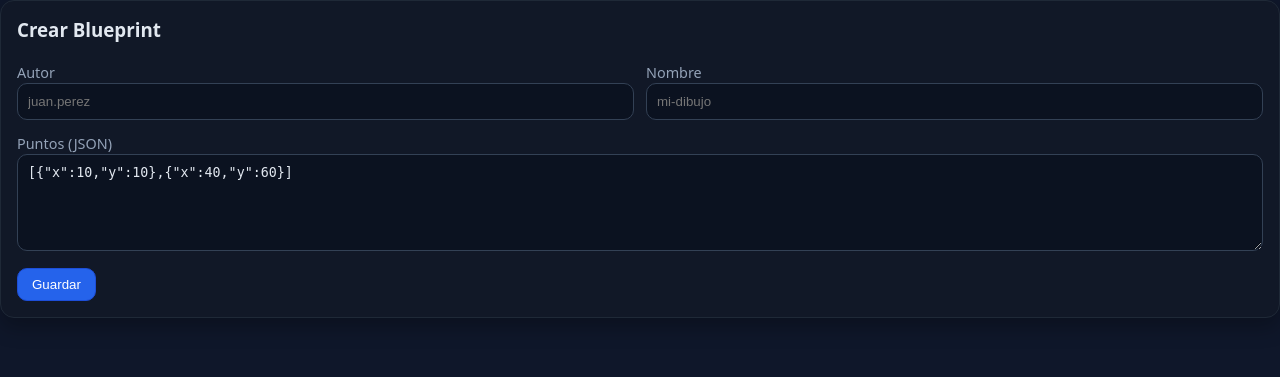
BlueprintForm › no envía el formulario si el JSON de puntos es inválido
Type "john" into the field labelled "Autor".
click(326, 101); type("john")  # box [17, 83, 634, 120]
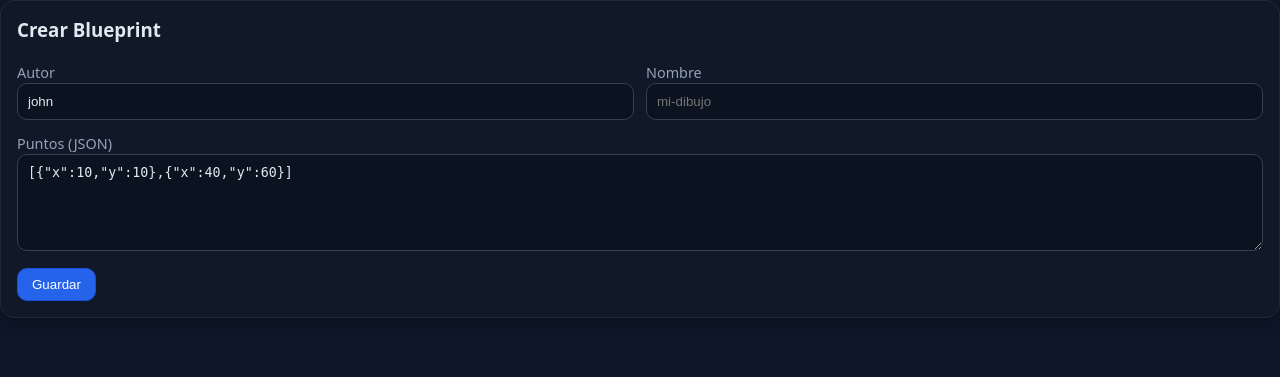
Type "house" into the field labelled "Nombre".
click(954, 101); type("house")  # box [646, 83, 1263, 120]
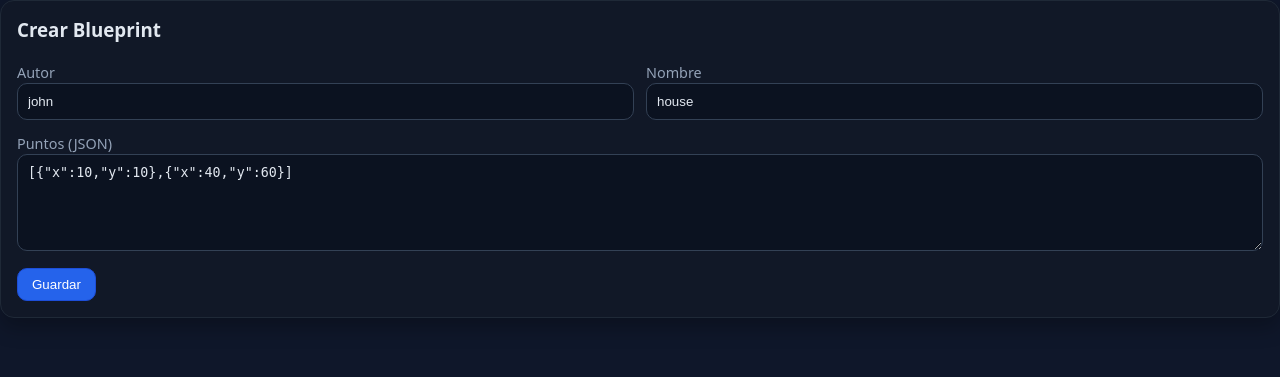
Replace the text in the text box labelled "Puntos (JSON)" with "no es json" at (640, 202), box [17, 154, 1263, 251]
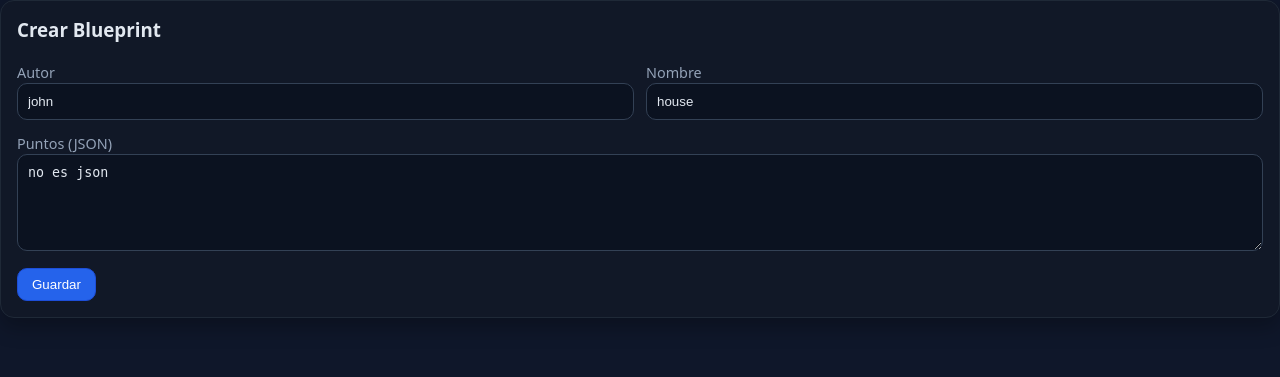
Submit the form from the button "Guardar", box [17, 268, 96, 301]
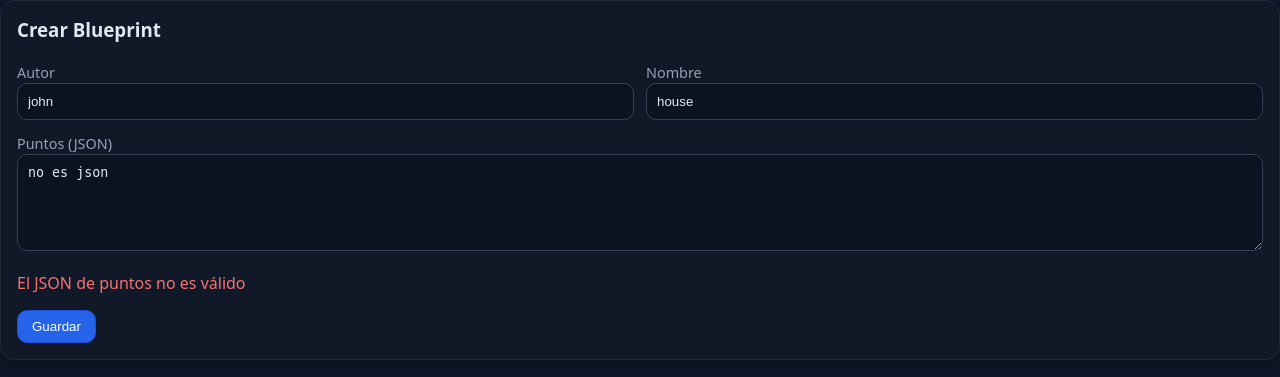
Expected: the text "El JSON de puntos no es válido" is shown, [17, 272, 246, 294]
